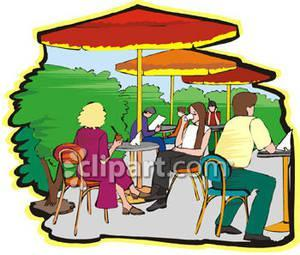chair: (51, 142, 108, 234), (194, 153, 252, 237)
diningtable: (107, 141, 160, 206), (254, 151, 290, 233)
person: (69, 100, 149, 215), (212, 90, 273, 240), (144, 100, 212, 211), (129, 105, 167, 151), (164, 106, 188, 144), (205, 99, 221, 126)
